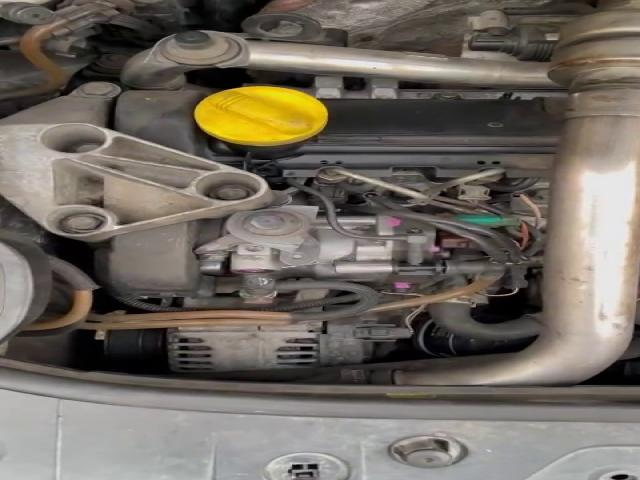alternator: (169, 323, 322, 373)
high_pressure_pump: (230, 216, 506, 292)
